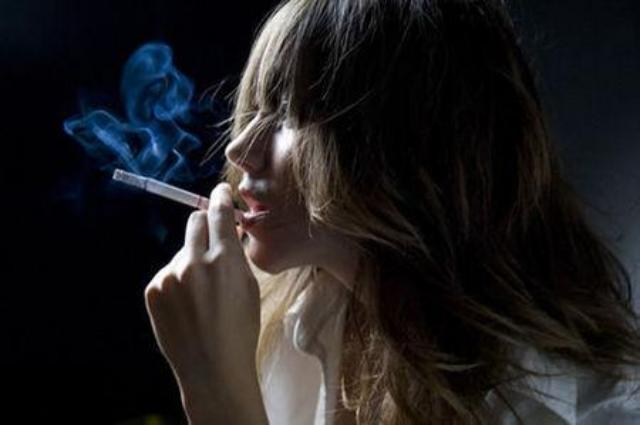Cigarette: (107, 164, 213, 216)
